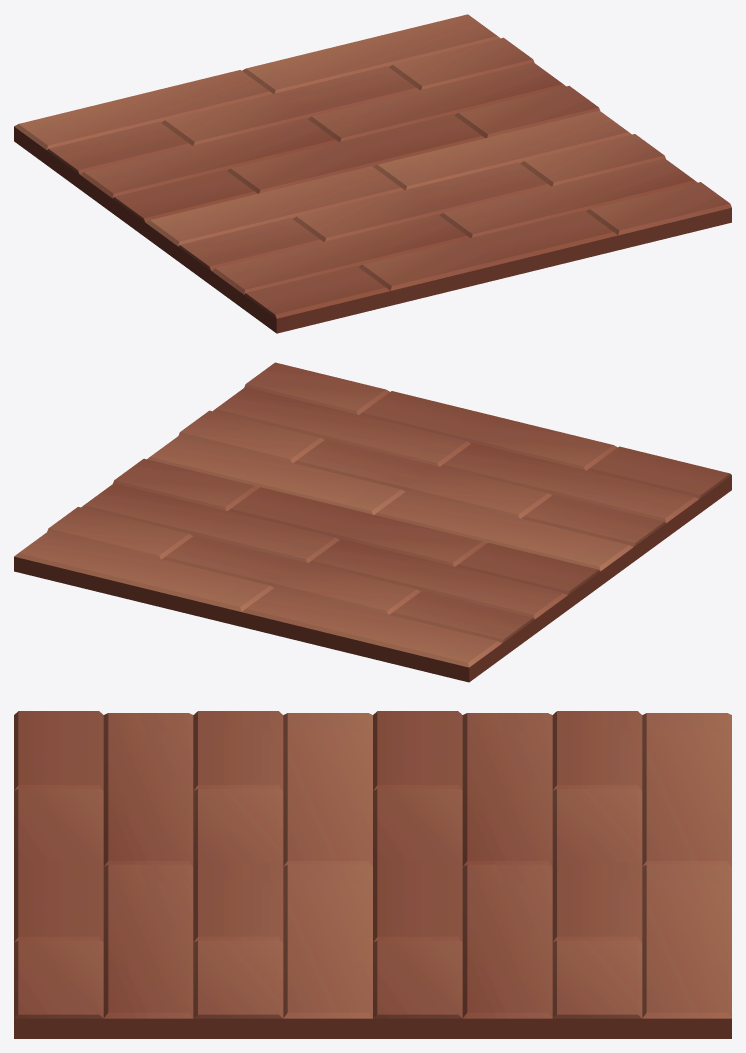
The model's file is floor_wood_large.glb.
3 renders of one model, top to bottom at view 1: azimuth 30°, elevation 25°; view 2: azimuth 150°, elevation 25°; view 3: azimuth 270°, elevation 25°, orthographic. The views are drawn at different scales.
Parts seen in each view (by area): view 1: floor_wood_large; view 2: floor_wood_large; view 3: floor_wood_large.
Part boxes in pixels (left/top/right/bottom): floor_wood_large: left=14, top=14, right=731, bottom=333; floor_wood_large: left=14, top=362, right=731, bottom=682; floor_wood_large: left=14, top=711, right=731, bottom=1038.
Bounding box in the file's own units: 4 × 0.1499 × 4.
1 material, 1 textured.
